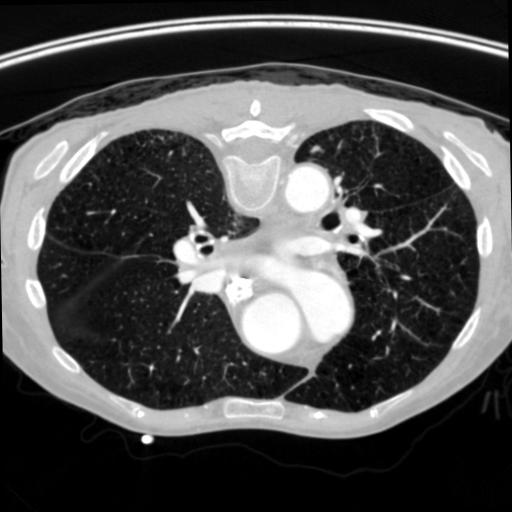nodule: (308, 143, 322, 157)
